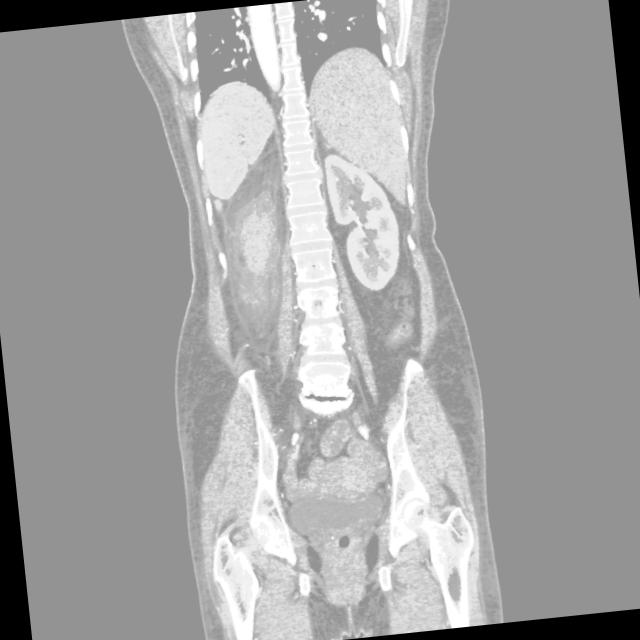TUMOR: (140, 177, 327, 402)
